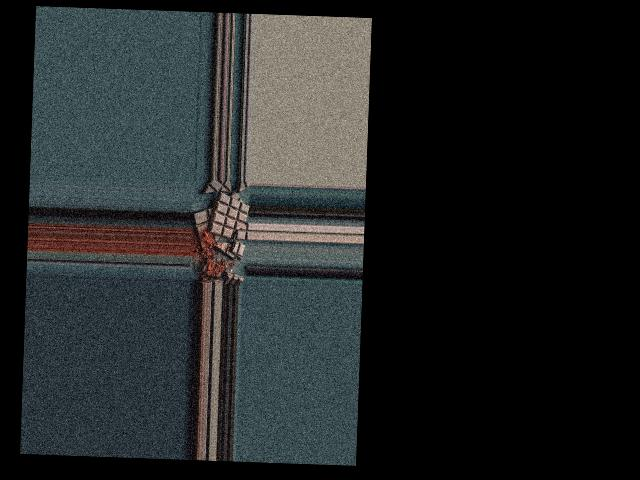chocolate: (208, 190, 249, 238)
